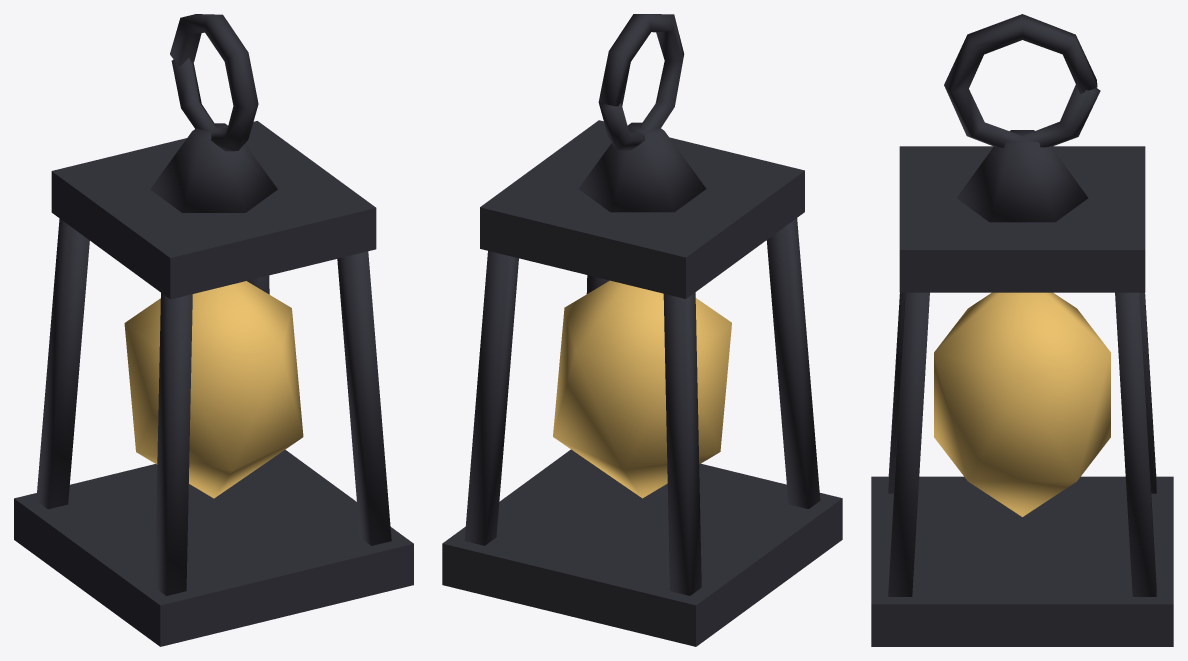
Rendered from magic_lantern.glb.
3 views of the same model, side by side, from view 1: azimuth 30°, elevation 25°; view 2: azimuth 150°, elevation 25°; view 3: azimuth 270°, elevation 25° (orthographic). The views are drawn at different scales.
Visible parts, largest first — view 1: magic_lantern_v0; view 2: magic_lantern_v0; view 3: magic_lantern_v0.
Boxes of the visible parts, box(x1,y1,x2,y2) form: magic_lantern_v0: box(14, 14, 413, 646); magic_lantern_v0: box(442, 14, 842, 646); magic_lantern_v0: box(871, 14, 1173, 646).
Bounding box in the file's own units: 0.16 × 0.3307 × 0.16.
